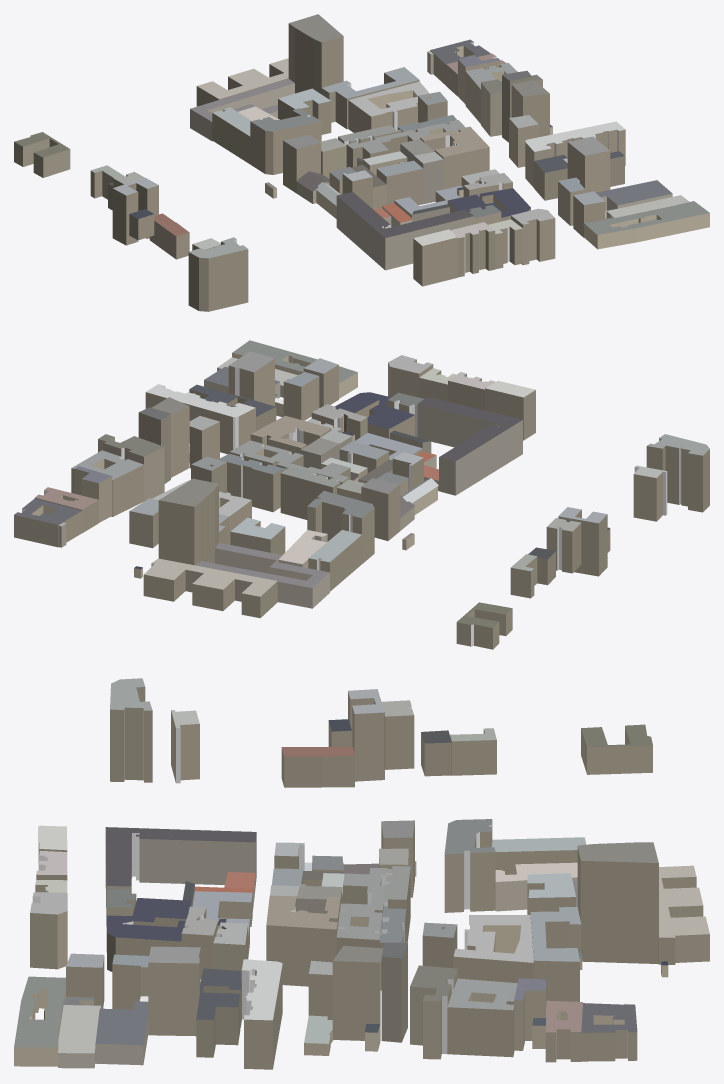
The picture shows the model from 3 angles, top to bottom: view 1: azimuth 30°, elevation 25°; view 2: azimuth 150°, elevation 25°; view 3: azimuth 270°, elevation 25°; orthographic projection. The views are drawn at different scales.
Parts seen in each view (by area): view 1: tuile; view 2: tuile; view 3: tuile.
Boxes of the visible parts, box(x1,y1,x2,y2) form: tuile: box(14, 14, 709, 311); tuile: box(14, 340, 709, 649); tuile: box(14, 678, 709, 1069).
Bounding box in the file's own units: 282 × 44.14 × 264.
